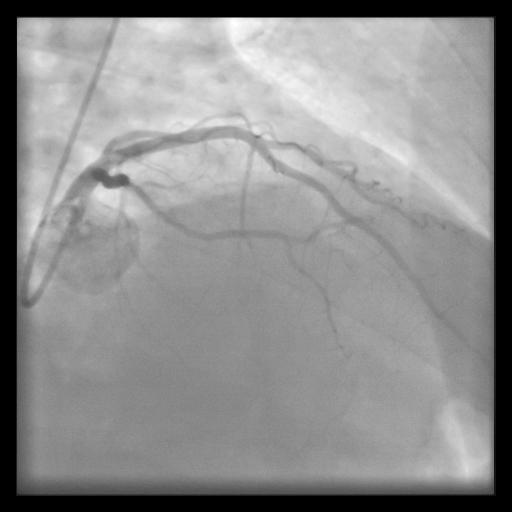Stenosis: (116, 174, 146, 196)
